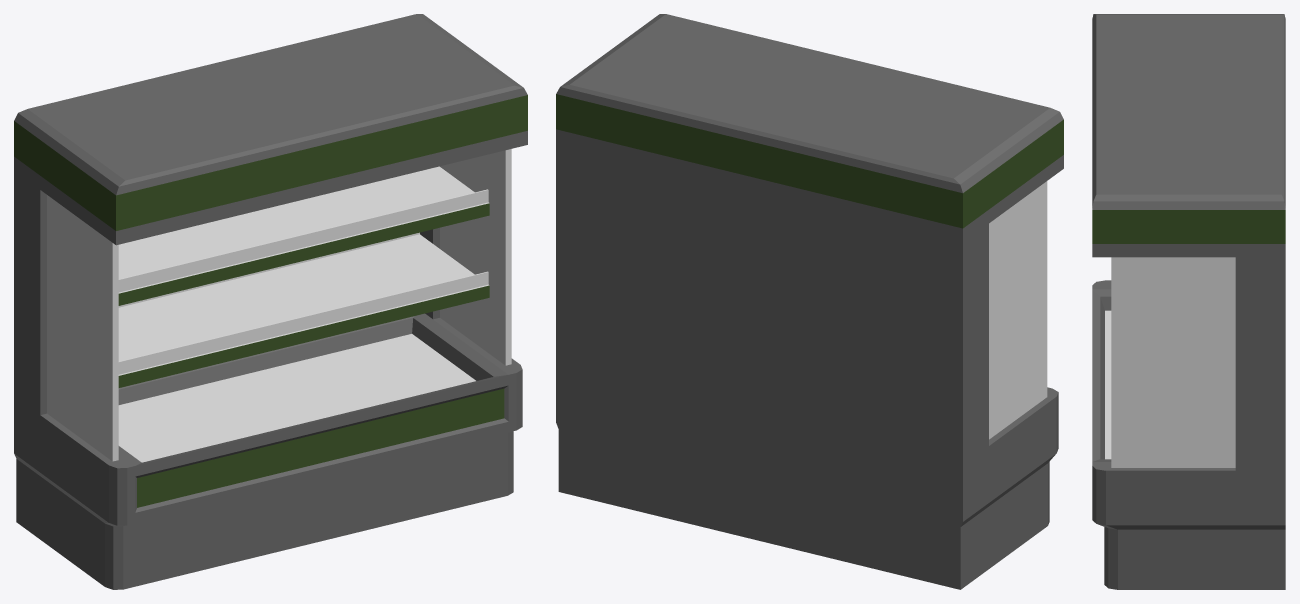
The model's file is Ma_Fridge.fbx.
3 renders of one model, left to right at view 1: azimuth 30°, elevation 25°; view 2: azimuth 150°, elevation 25°; view 3: azimuth 270°, elevation 25°, orthographic. The views are drawn at different scales.
Parts seen in each view (by area): view 1: Ma_Fridge; view 2: Ma_Fridge; view 3: Ma_Fridge.
Boxes of the visible parts, bbox=[...] form: Ma_Fridge: bbox=[14, 14, 527, 589]; Ma_Fridge: bbox=[556, 14, 1063, 589]; Ma_Fridge: bbox=[1092, 14, 1285, 589].
Size of the model in its own units: 1766 by 758 by 1691.
